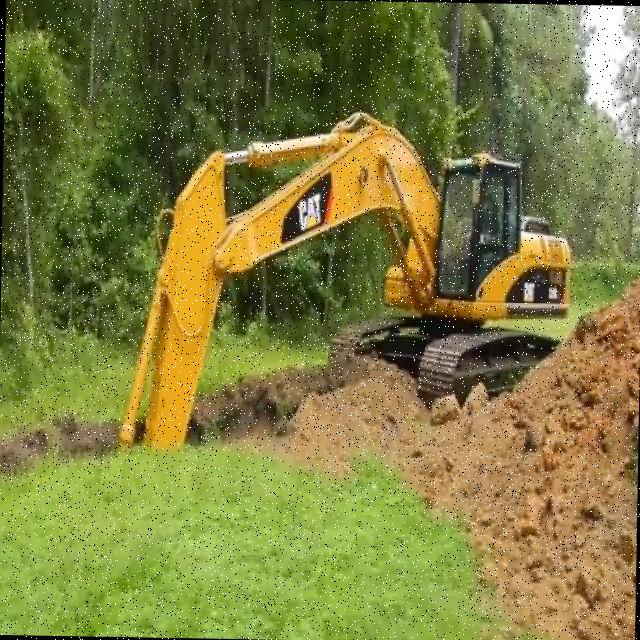Excavator: (117, 106, 572, 461)
